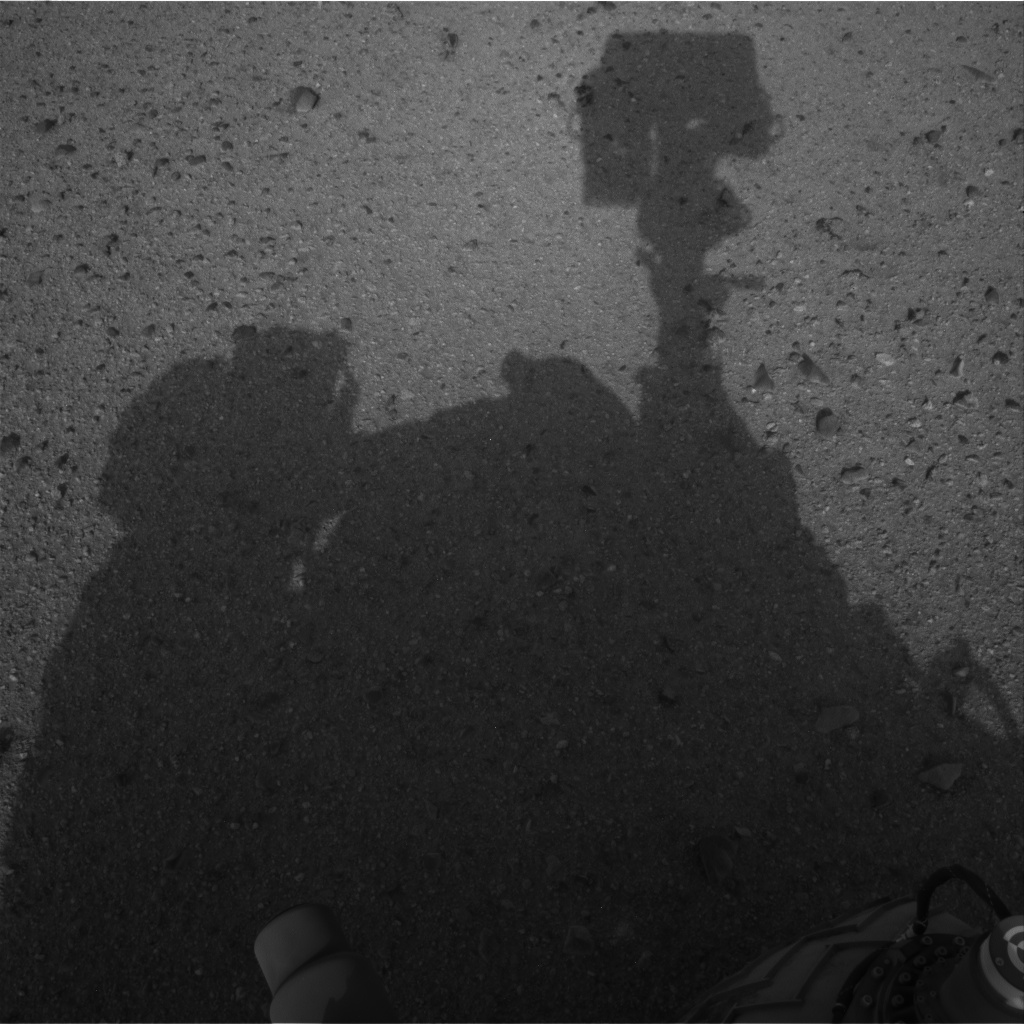soil: (5, 5, 1017, 1012)
